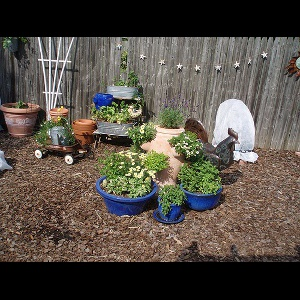flowerpot: (96, 173, 159, 217), (149, 125, 186, 185), (1, 95, 41, 140), (179, 179, 224, 213), (92, 112, 144, 136), (152, 190, 185, 225), (71, 119, 97, 150), (106, 82, 141, 100), (48, 121, 71, 148), (48, 107, 70, 125)
